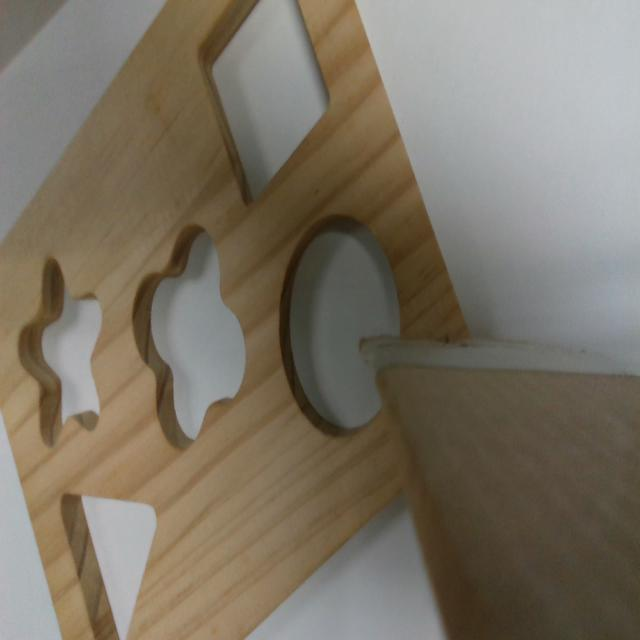circle: (280, 214, 401, 433)
flower: (129, 226, 246, 452)
square: (196, 5, 332, 208)
star: (16, 253, 103, 453)
triangle: (60, 492, 156, 639)
